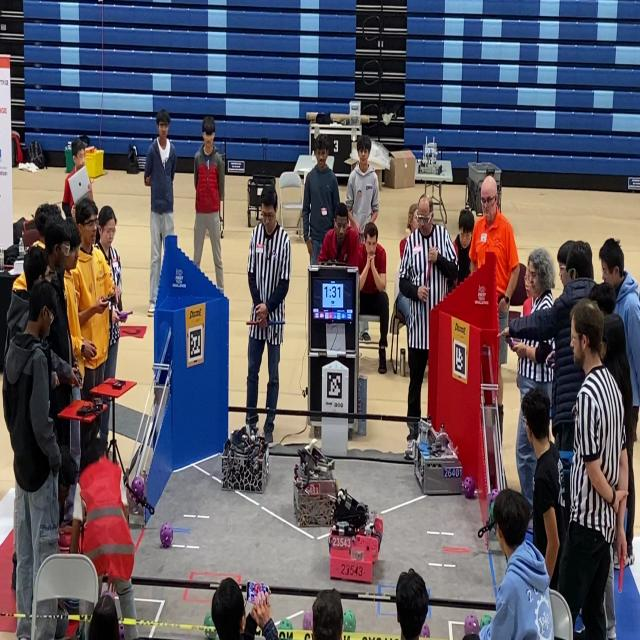artifact_green: (55, 605, 68, 638), (343, 610, 356, 632), (279, 619, 293, 631), (480, 614, 492, 628), (489, 489, 499, 503), (204, 612, 213, 627), (489, 502, 494, 522), (119, 623, 124, 639)
artifact_purple: (131, 476, 144, 501), (160, 523, 173, 548), (462, 476, 475, 498), (465, 614, 479, 634), (303, 610, 312, 630), (420, 622, 430, 638), (490, 489, 499, 504), (103, 591, 115, 599), (119, 623, 124, 639)
